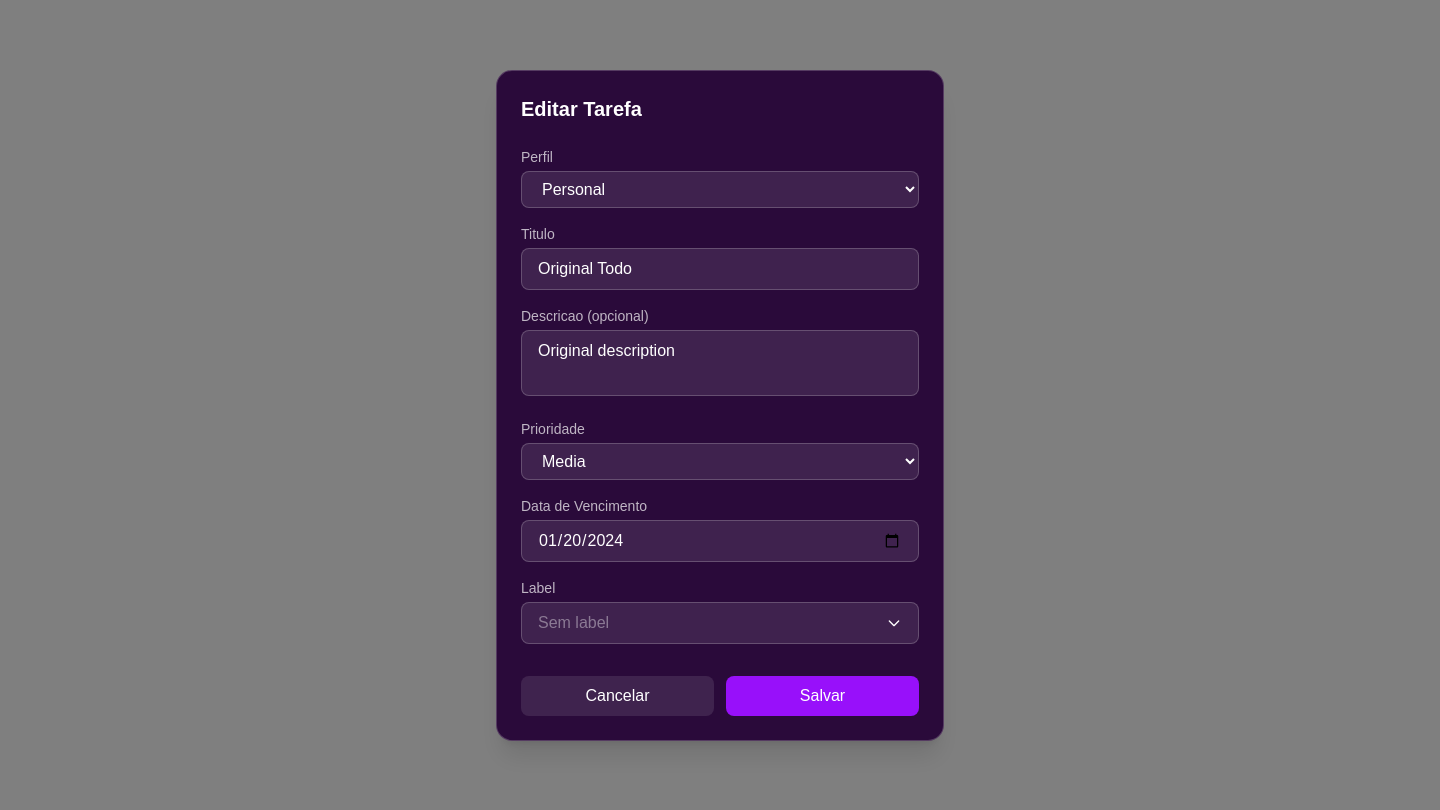
EditTodoModal › interactions › should disable save button when title is empty
Clear the field labelled "Titulo": coordinates (720, 268) [521,248,919,290]
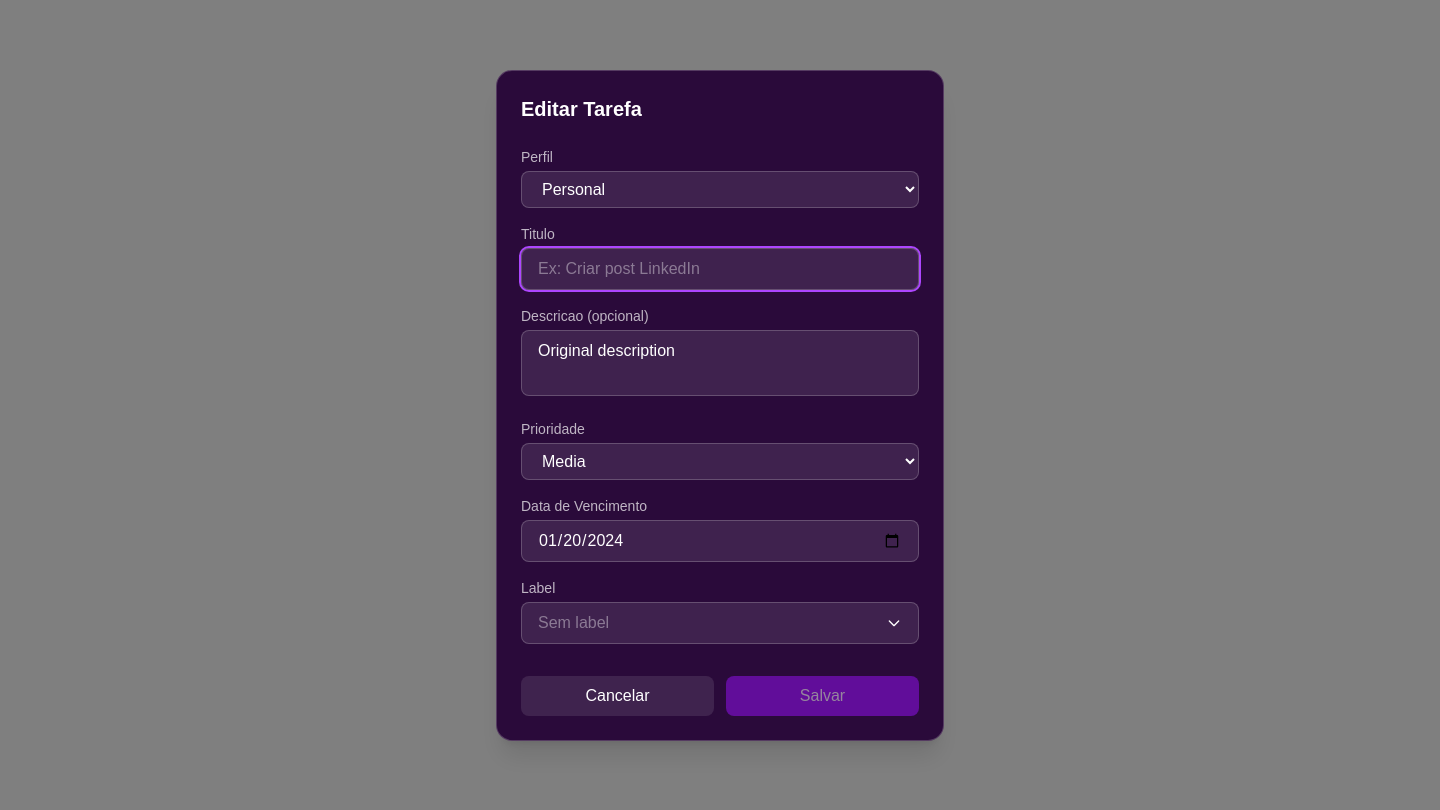
Now the button "Salvar" is disabled, box [726,676,919,716]
